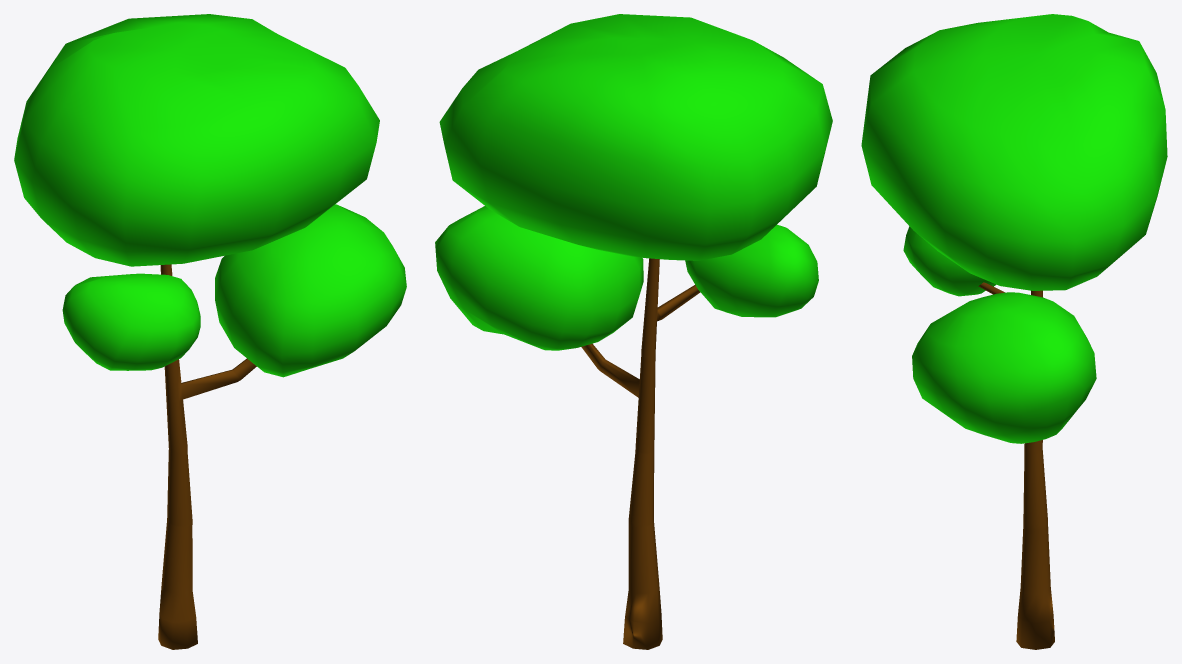
File: Tree1.fbx
3 views of the same model, side by side, from view 1: azimuth 30°, elevation 25°; view 2: azimuth 150°, elevation 25°; view 3: azimuth 270°, elevation 25° (orthographic).
Parts seen in each view (by area): view 1: Sphere.002; view 2: Sphere.002; view 3: Sphere.002.
Part boxes in pixels (x1=…): Sphere.002: x1=14, y1=14, x2=406, y2=649; Sphere.002: x1=435, y1=14, x2=832, y2=649; Sphere.002: x1=861, y1=14, x2=1167, y2=649.
Bounding box in the file's own units: 2813 × 4506 × 2110.
